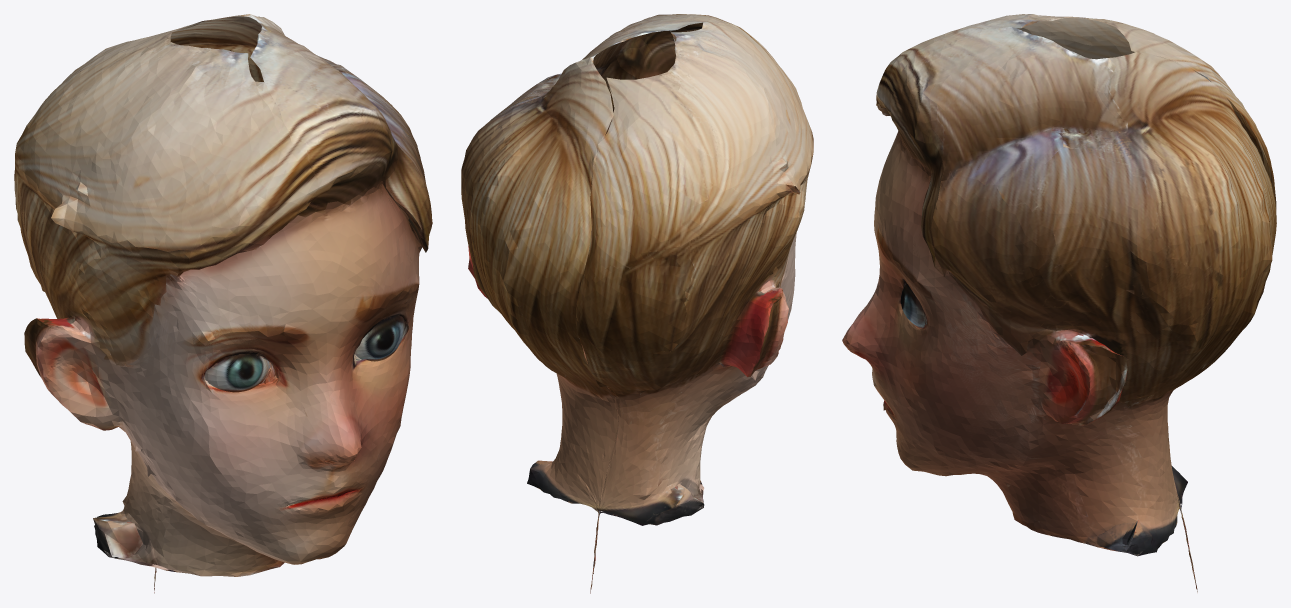
File: boy.glb
3 renders of one model, left to right at view 1: azimuth 30°, elevation 25°; view 2: azimuth 150°, elevation 25°; view 3: azimuth 270°, elevation 25°, orthographic. The views are drawn at different scales.
Bounding box in the file's own units: 1.13 × 1.8 × 1.25.
1 material, 1 textured.
